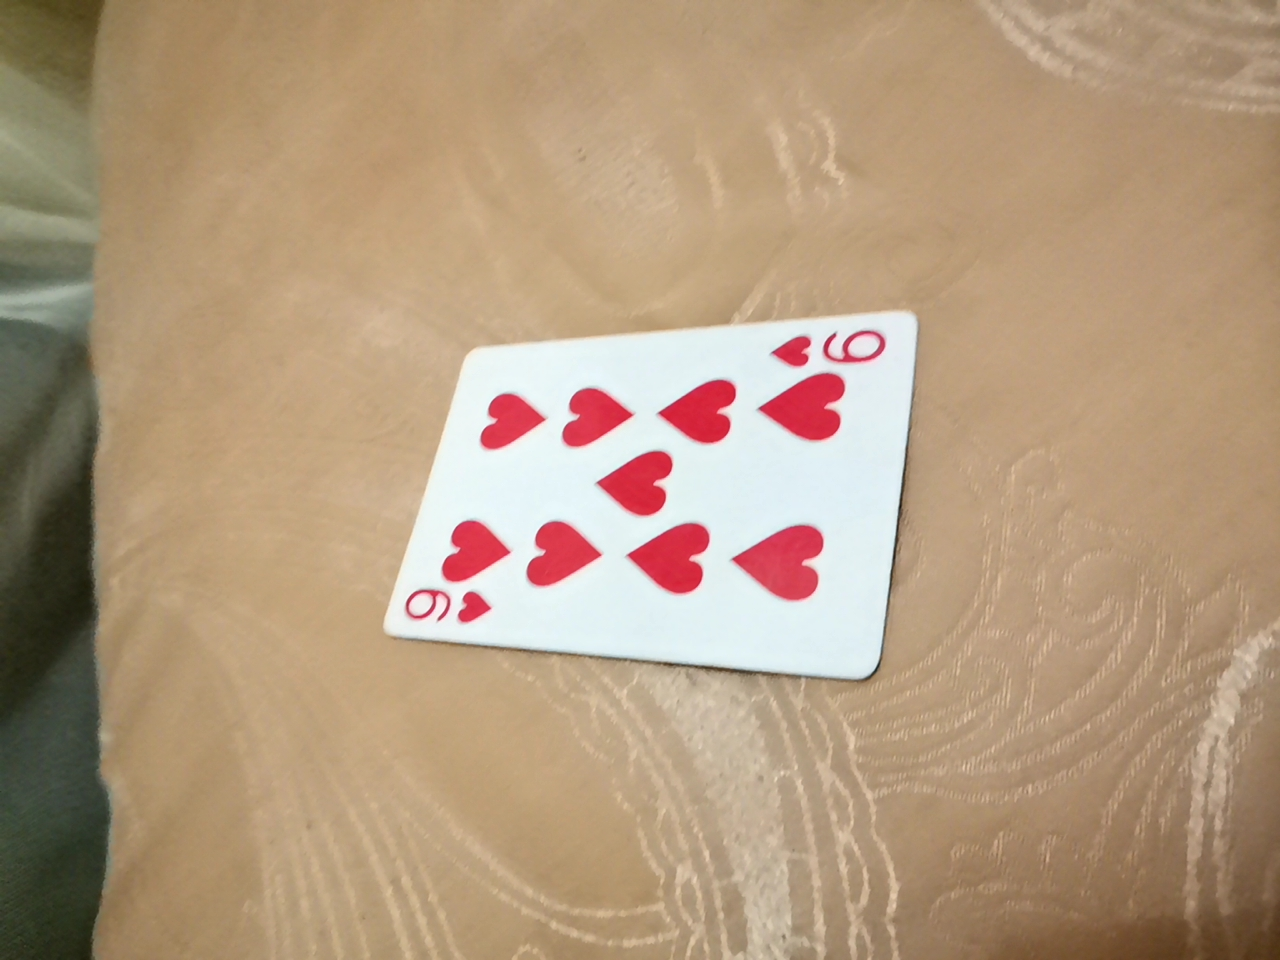hx 9: (418, 282, 943, 655)
